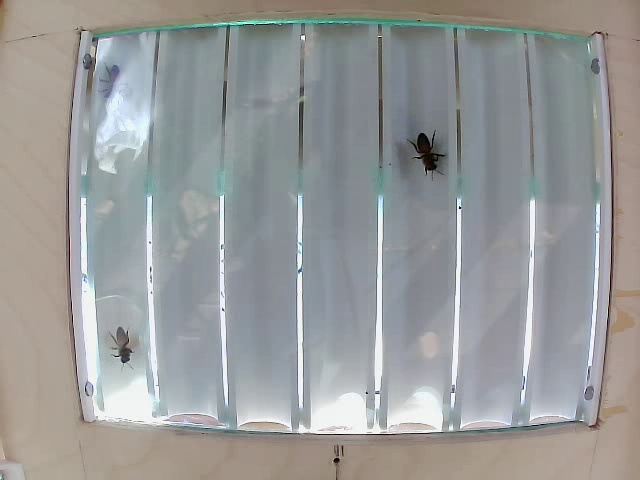bee: (406, 126, 452, 184), (104, 324, 144, 384)
